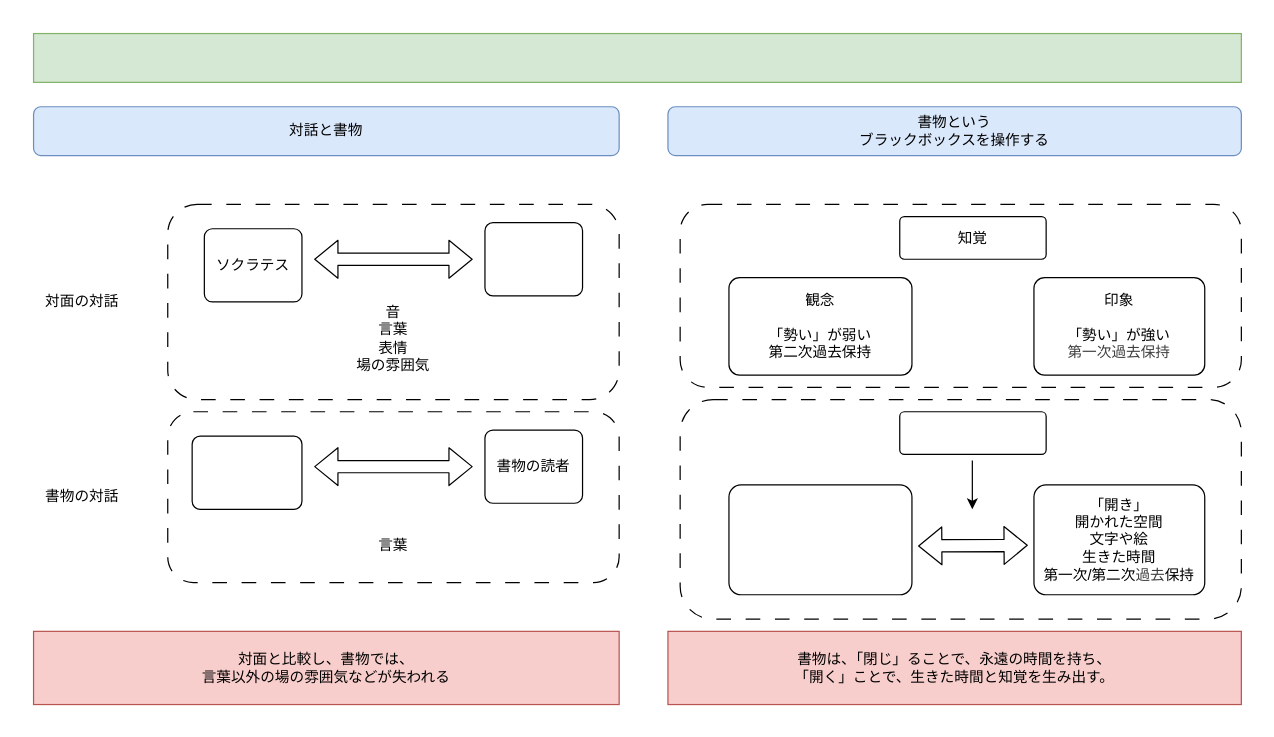
This 1274x737 diagram has some shape labels left out. Each missing label, with the box of its shape:
「閉じ」 ただの壁 背表紙 永遠 第三次 過去 保持: (728, 484, 912, 595)
ソクラテス の言葉が書かれたもの: (191, 435, 302, 509)
プラトン: (484, 221, 583, 296)
書物: (899, 411, 1046, 454)
書物と貨幣の五千年史 書物と時間: (32, 32, 1241, 82)
